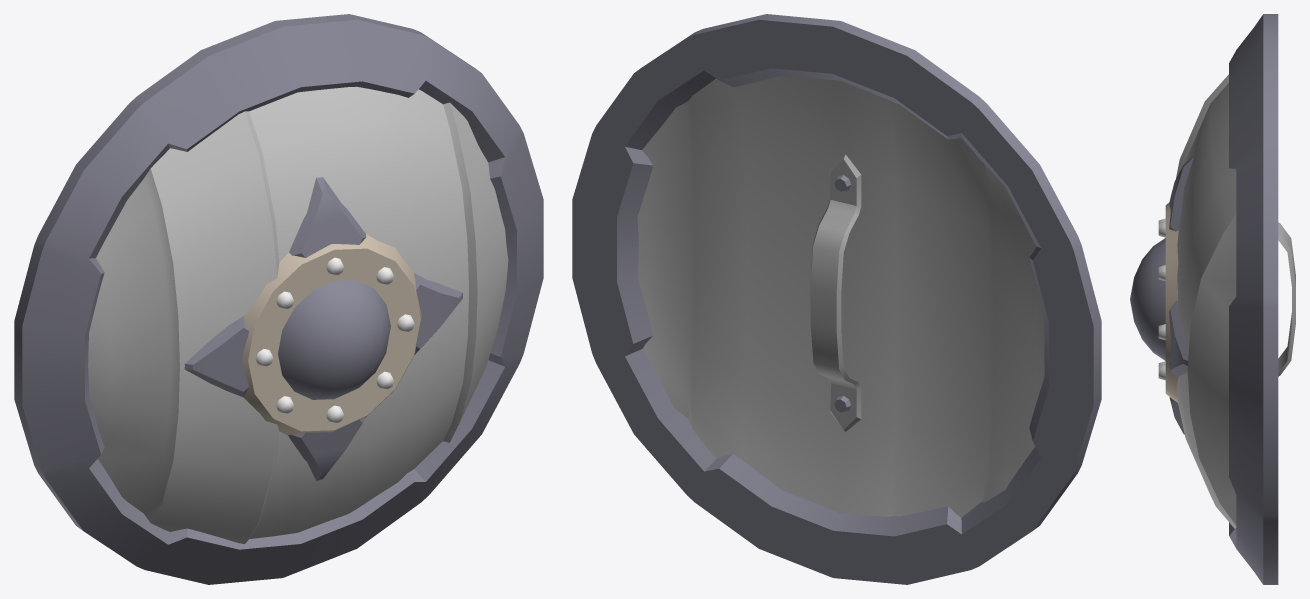
Rendered from q_shield.gltf.
The picture shows the model from 3 angles, left to right: view 1: azimuth 30°, elevation 25°; view 2: azimuth 150°, elevation 25°; view 3: azimuth 270°, elevation 25°; orthographic projection. The views are drawn at different scales.
Parts seen in each view (by area): view 1: Shield_Wooden; view 2: Shield_Wooden; view 3: Shield_Wooden.
Boxes of the visible parts, <box> form: Shield_Wooden: <box>14,14,543,584</box>; Shield_Wooden: <box>572,14,1101,584</box>; Shield_Wooden: <box>1130,14,1295,584</box>.
Size of the model in its own units: 0.6146 by 0.6209 by 0.1788.
